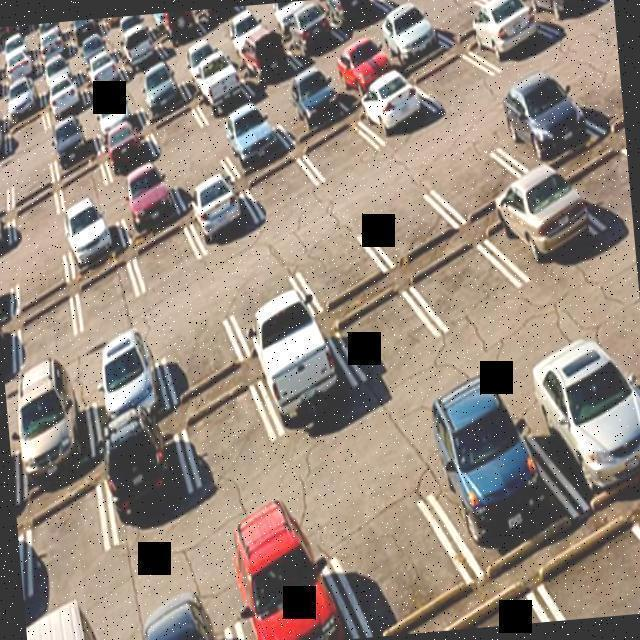space-empty: (344, 501, 453, 620), (426, 251, 505, 331), (197, 389, 268, 469), (376, 184, 444, 261), (28, 504, 101, 572), (310, 227, 376, 302), (421, 45, 494, 111), (344, 311, 428, 367), (167, 323, 230, 395), (72, 257, 138, 325), (446, 148, 511, 217), (234, 269, 296, 341), (310, 116, 377, 180), (252, 158, 314, 220), (15, 304, 79, 363), (576, 158, 632, 222), (13, 247, 70, 307), (139, 225, 189, 292), (178, 145, 231, 203), (153, 107, 200, 156), (62, 166, 105, 210), (15, 194, 58, 237), (14, 157, 55, 198), (8, 110, 49, 138)
space-occupied: (424, 417, 565, 543), (541, 350, 640, 507), (498, 188, 588, 280), (243, 562, 349, 640), (107, 438, 192, 527), (265, 339, 344, 422), (27, 400, 95, 482), (521, 95, 587, 165), (95, 347, 155, 415), (481, 2, 542, 64), (228, 115, 286, 178), (193, 189, 252, 249), (369, 78, 428, 134), (65, 215, 124, 269), (124, 179, 178, 238), (384, 14, 442, 67), (284, 81, 338, 136), (339, 49, 389, 104), (197, 70, 248, 122), (286, 12, 338, 61), (245, 42, 291, 89), (105, 128, 151, 174), (144, 77, 190, 118), (532, 0, 603, 24), (59, 131, 100, 172), (334, 0, 381, 31), (99, 103, 140, 138), (233, 26, 275, 56), (185, 47, 224, 79), (48, 88, 88, 114), (126, 39, 161, 67), (167, 23, 202, 51), (6, 89, 41, 116), (79, 47, 118, 70), (46, 68, 81, 92), (89, 62, 123, 86), (39, 41, 72, 62), (124, 28, 154, 50), (9, 58, 37, 80), (6, 40, 34, 62), (0, 130, 5, 159)
